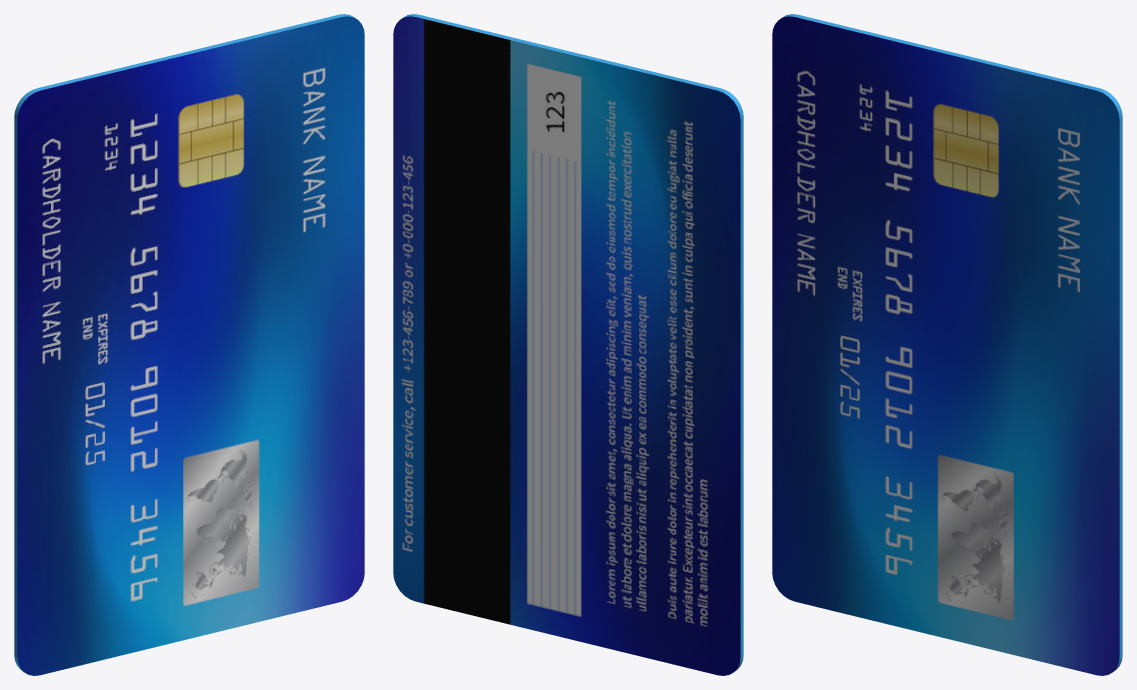
The model's file is card2.glb.
The picture shows the model from 3 angles, left to right: view 1: azimuth 30°, elevation 25°; view 2: azimuth 150°, elevation 25°; view 3: azimuth 330°, elevation 25°; orthographic projection.
Parts seen in each view (by area): view 1: pCube2; view 2: pCube2; view 3: pCube2.
Boxes of the visible parts, x1,y1,x2,y2 form: pCube2: (14, 14, 364, 675); pCube2: (393, 14, 743, 675); pCube2: (772, 14, 1122, 675).
Bounding box in the file's own units: 0.0139 × 0.0224 × 0.000224.
Materials: 1 (1 with a texture image).
